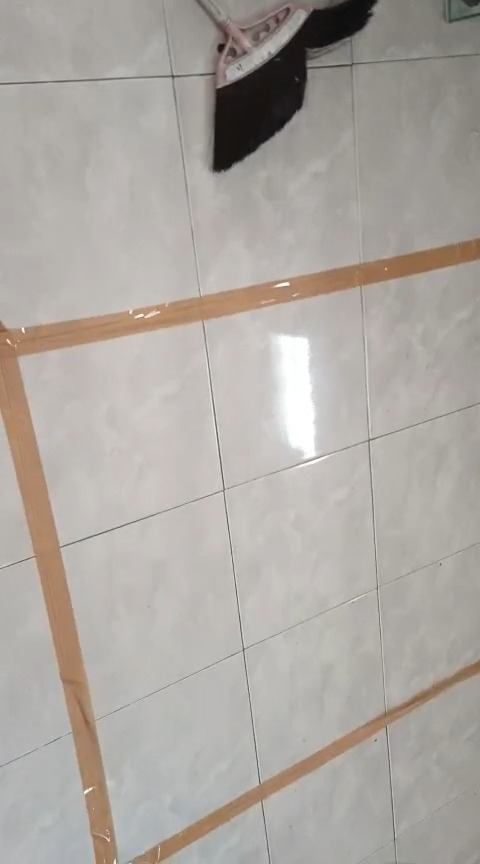floor marking: (0, 238, 479, 863), (133, 661, 479, 863)
